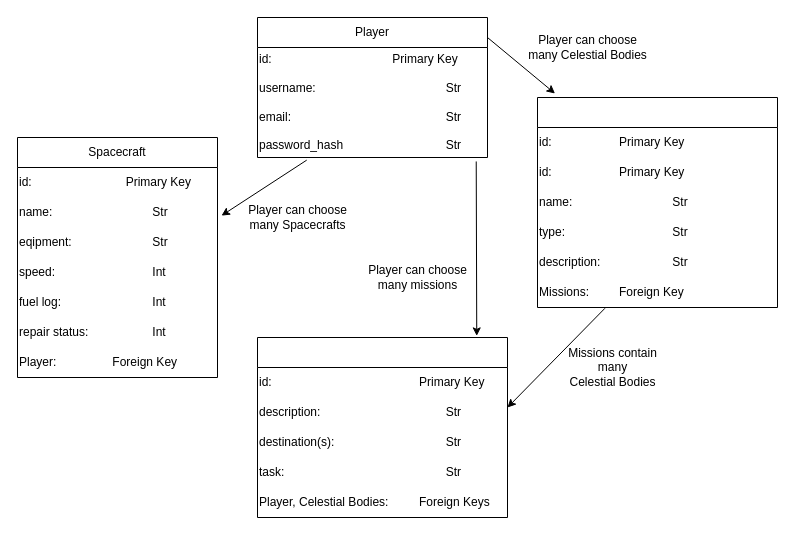
Image size: 795x535. Some labels were removed from this diagram. The box of each missing label's shape, as (x1, y1, x2, y2) in pixels:
Celestial Body: (536, 96, 778, 308)
Mission: (256, 336, 508, 518)
